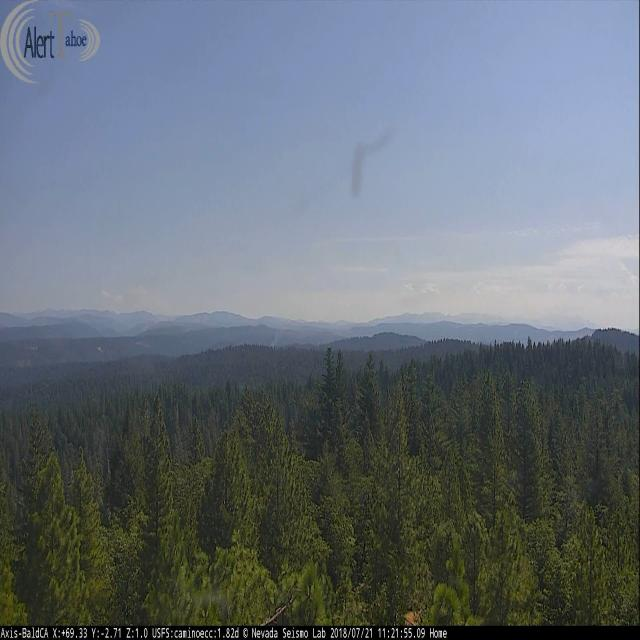smoke: (267, 332, 281, 346)
